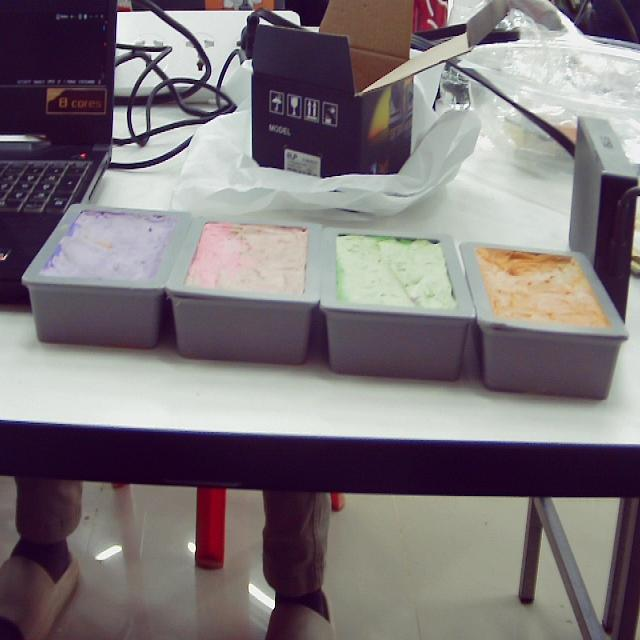block: (458, 243, 630, 398), (21, 205, 194, 350), (162, 214, 324, 366), (316, 228, 476, 381)
